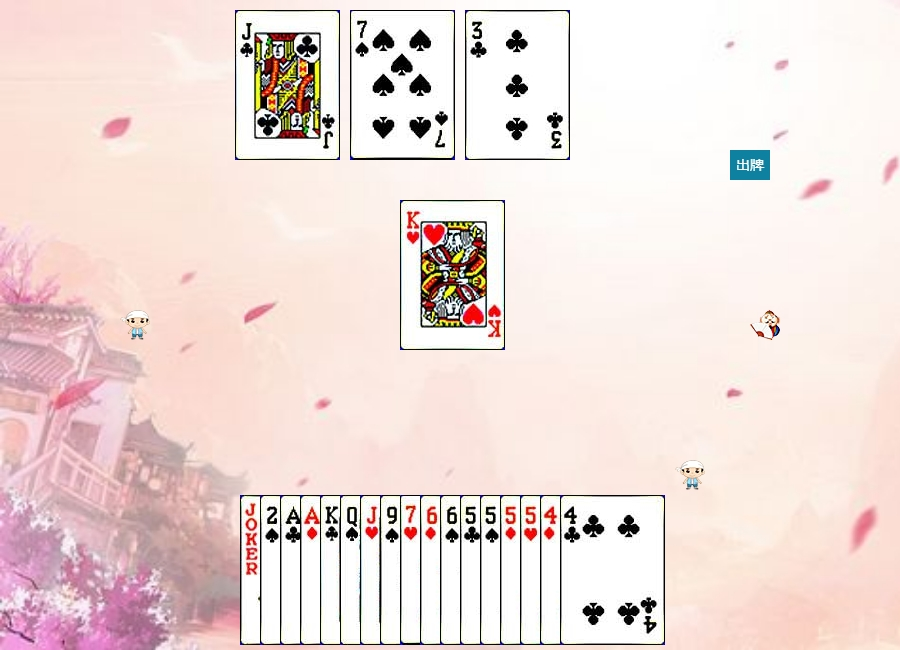11~2: (235, 10, 340, 160)
11~3: (360, 495, 465, 645)
12~4: (340, 495, 445, 645)
13~2: (320, 495, 425, 645)
13~3: (400, 200, 505, 350)
14~1: (300, 495, 405, 645)
14~2: (280, 495, 385, 645)
15~4: (260, 495, 365, 645)
18~4: (240, 495, 345, 645)
3~2: (465, 10, 570, 160)
4~1: (540, 495, 645, 645)
4~2: (560, 495, 665, 645)
5~1: (500, 495, 605, 645)
5~2: (460, 495, 565, 645)
5~3: (520, 495, 625, 645)
5~4: (480, 495, 585, 645)
6~1: (420, 495, 525, 645)
6~4: (440, 495, 545, 645)
7~3: (400, 495, 505, 645)
7~4: (350, 10, 455, 160)
9~4: (380, 495, 485, 645)
